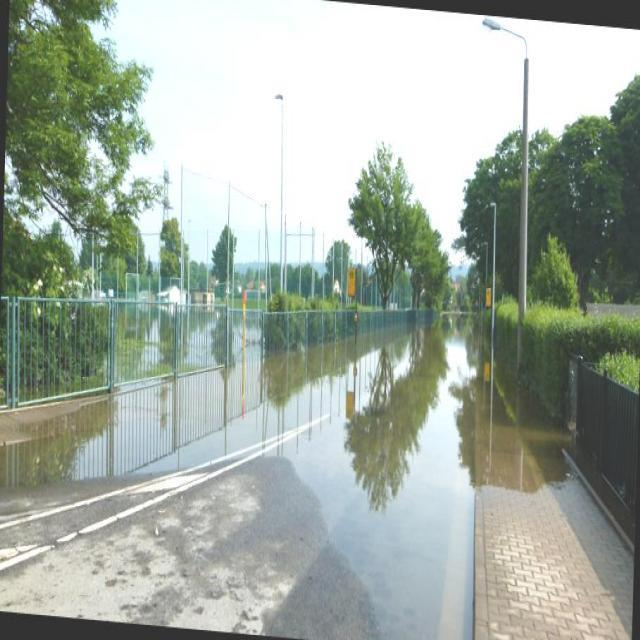flood: (126, 289, 481, 639)
